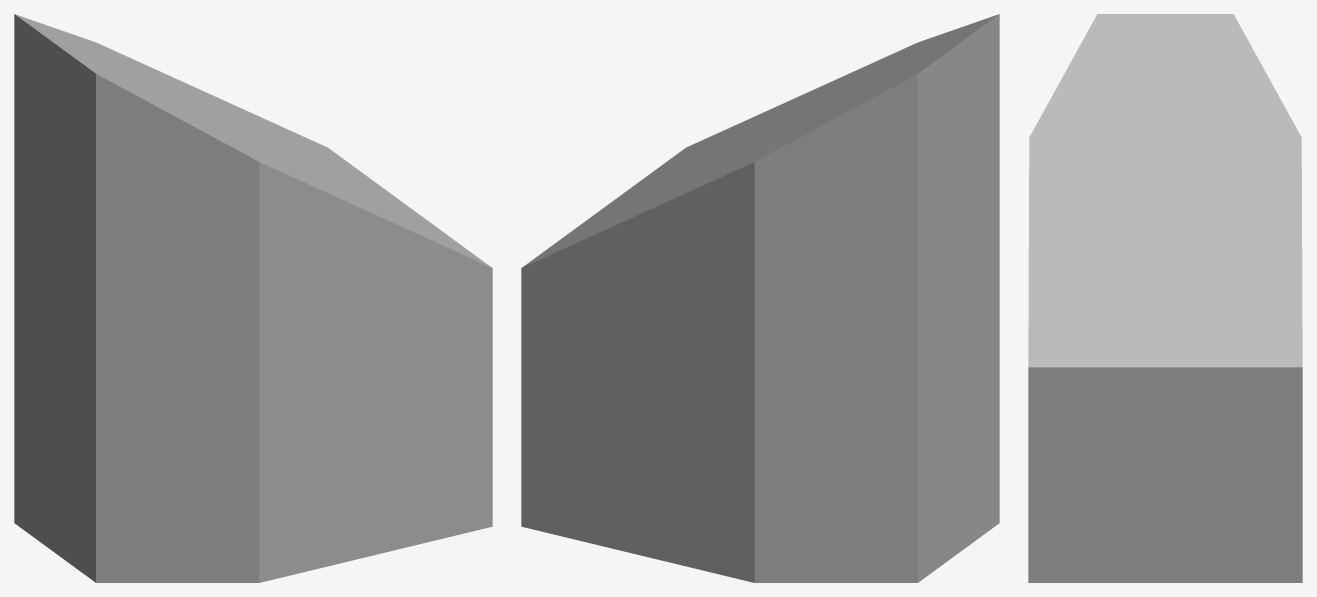
The model's file is SPW_Natures_Stone_04.glb.
3 views of the same model, side by side, from view 1: azimuth 30°, elevation 25°; view 2: azimuth 150°, elevation 25°; view 3: azimuth 270°, elevation 25° (orthographic). The views are drawn at different scales.
Visible parts, largest first — view 1: SPW_Natures_Stone_04; view 2: SPW_Natures_Stone_04; view 3: SPW_Natures_Stone_04.
Boxes of the visible parts, x1=… form: SPW_Natures_Stone_04: x1=14, y1=14, x2=492, y2=582; SPW_Natures_Stone_04: x1=521, y1=14, x2=999, y2=582; SPW_Natures_Stone_04: x1=1028, y1=14, x2=1302, y2=582.
Size of the model in its own units: 1.25 by 1.72 by 1.01.
1 material, 1 textured.
